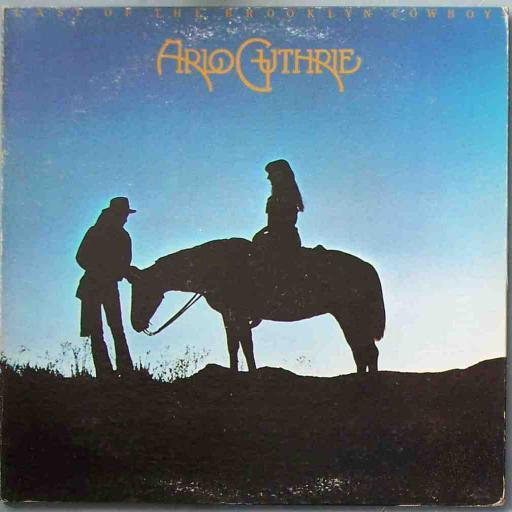horse: (130, 236, 386, 374)
